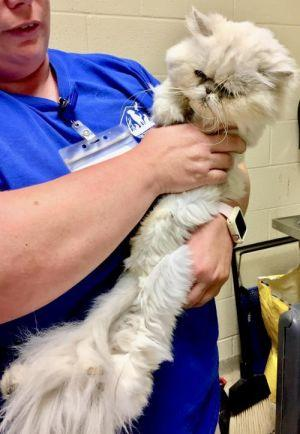persian: (157, 4, 300, 143)
